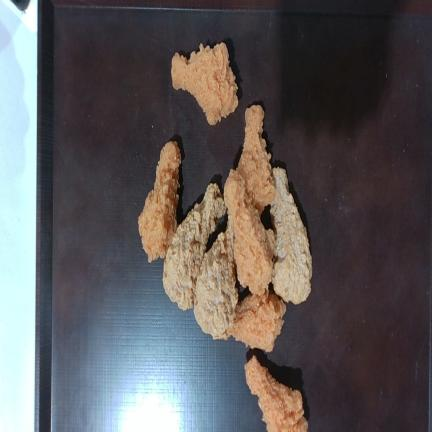chicken: (163, 183, 226, 310), (224, 170, 274, 295), (270, 167, 312, 304), (171, 43, 238, 124), (194, 223, 238, 339), (139, 142, 181, 262), (245, 356, 307, 431), (236, 105, 275, 214), (226, 291, 286, 352)
